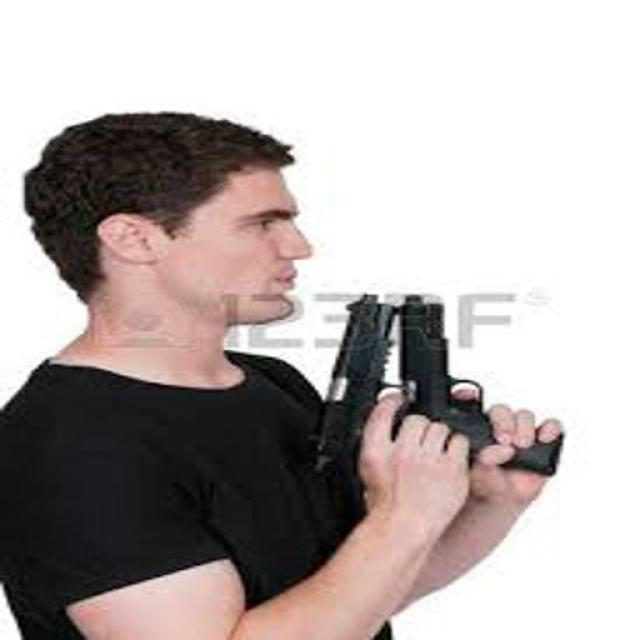pistol: (395, 296, 562, 477), (300, 294, 405, 478)
